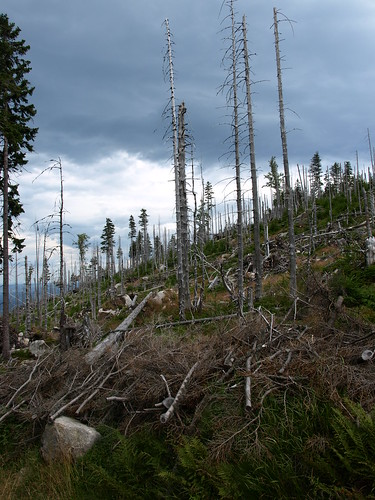sky: (48, 1, 375, 262)
vegetation: (1, 192, 375, 500)
